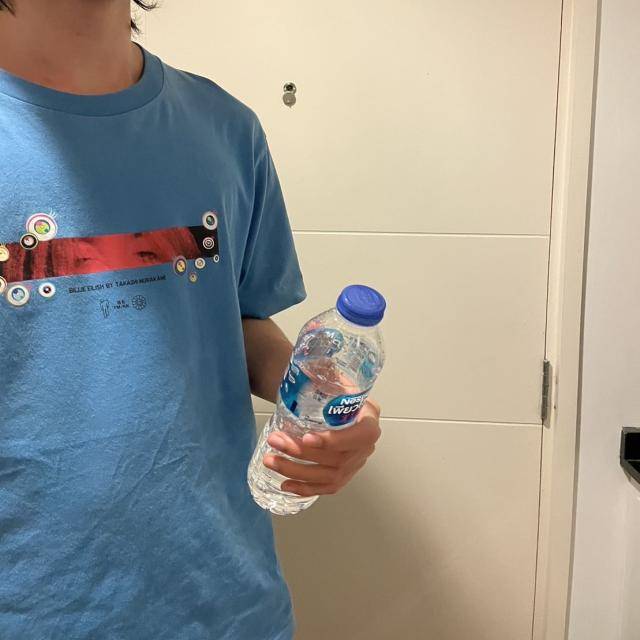bottle: (246, 282, 389, 516)
